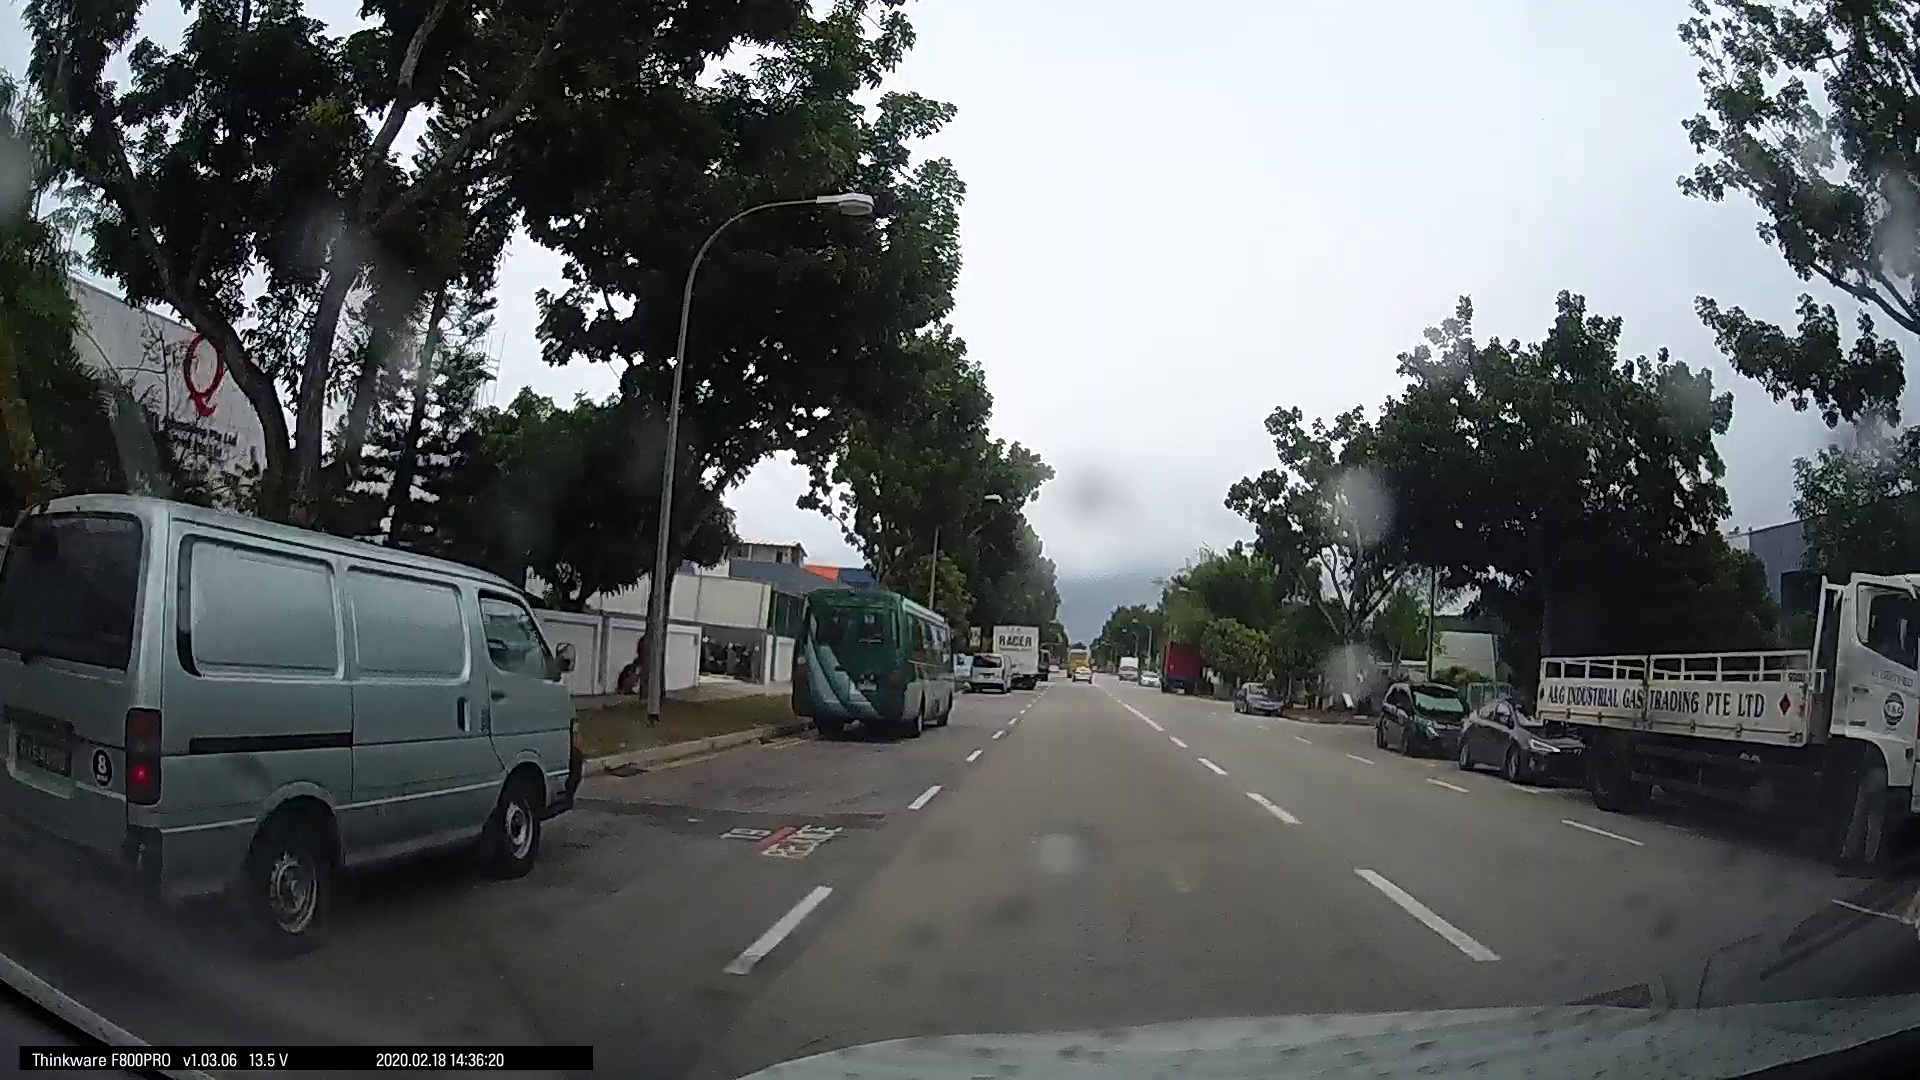Heavy Vehicle: (1545, 554, 1919, 823), (789, 579, 959, 741), (978, 620, 1044, 687)
Light Vehicle: (12, 512, 583, 940), (1453, 696, 1573, 785), (1370, 676, 1466, 758), (1232, 676, 1283, 715)
